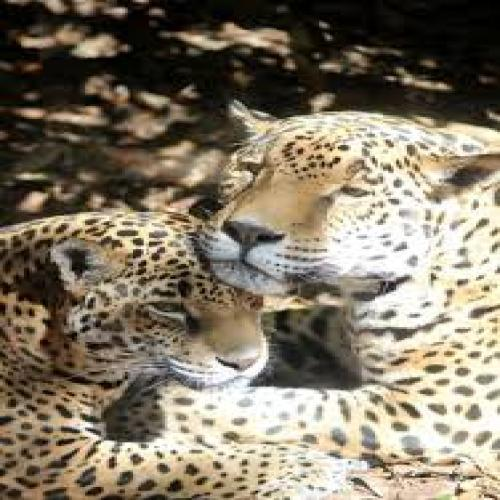jaguar_not-endangered: (197, 102, 500, 454), (0, 208, 346, 493)
